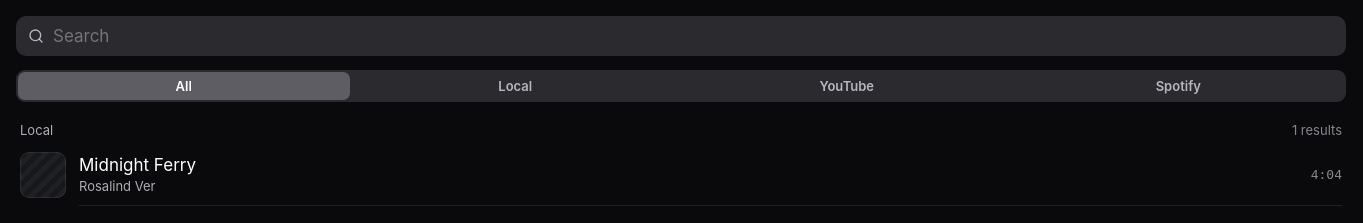
Test: Search › filters grouped results by the typed query
Expected: the text "Midnight Ferry" is shown, [79, 155, 196, 175]
In the field with placeholder "Search": (692, 36) [51, 25, 1334, 47], type "zzz-no-match"
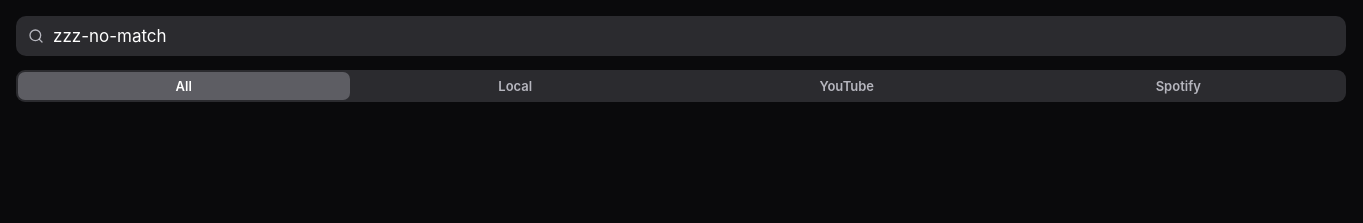
Result: the button "Midnight Ferry" is gone
